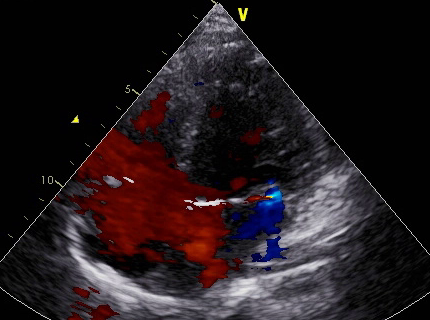MR: (206, 166, 296, 228)
